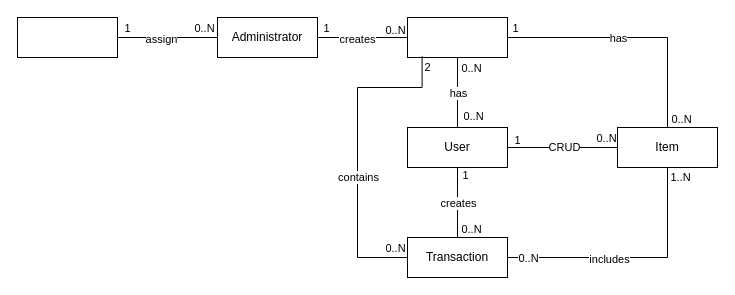
Image size: 735x295. Some labels were removed from this diagram. The shapes that lost their labels are listed below. From the top down, each one's centre as x and y in pixels, then its label:
At point 67,37: "Root user".
At point 457,37: "Project".
